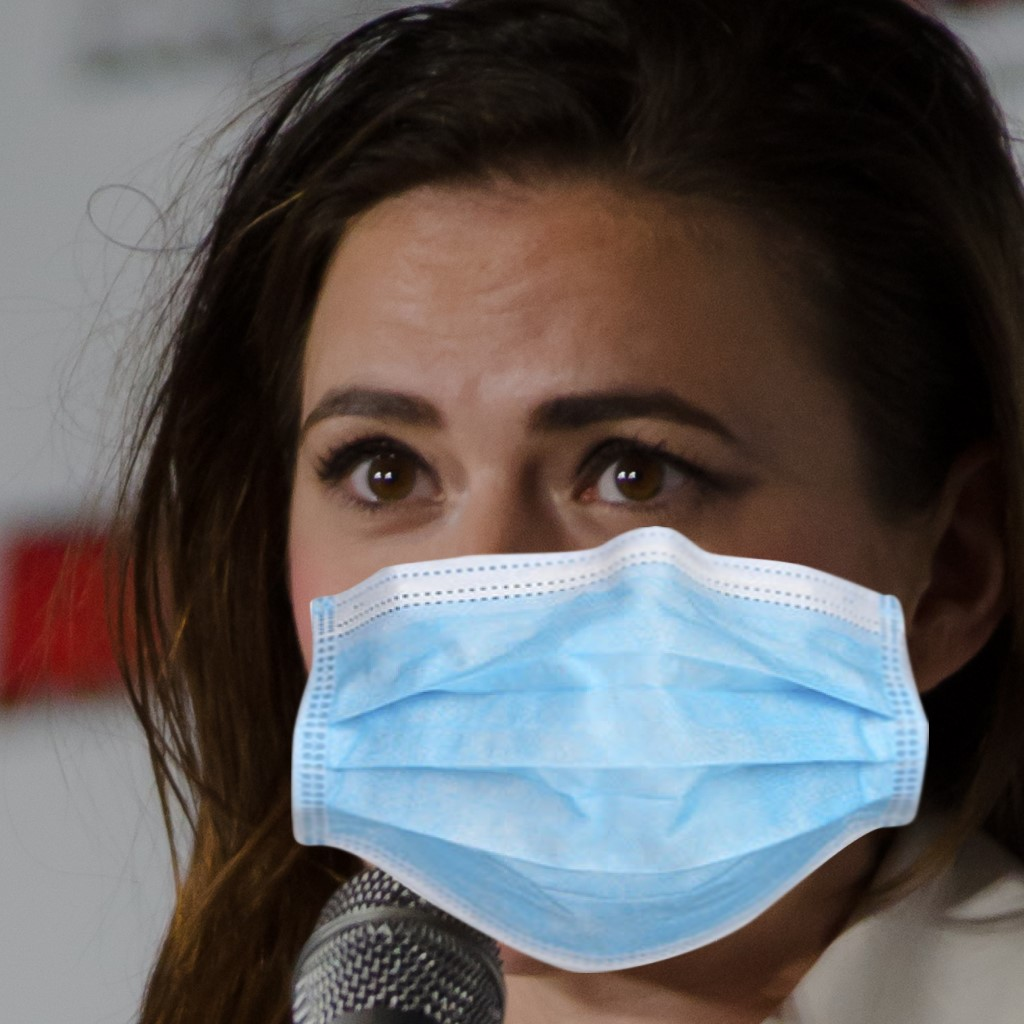con_mascara: (284, 130, 946, 942)
